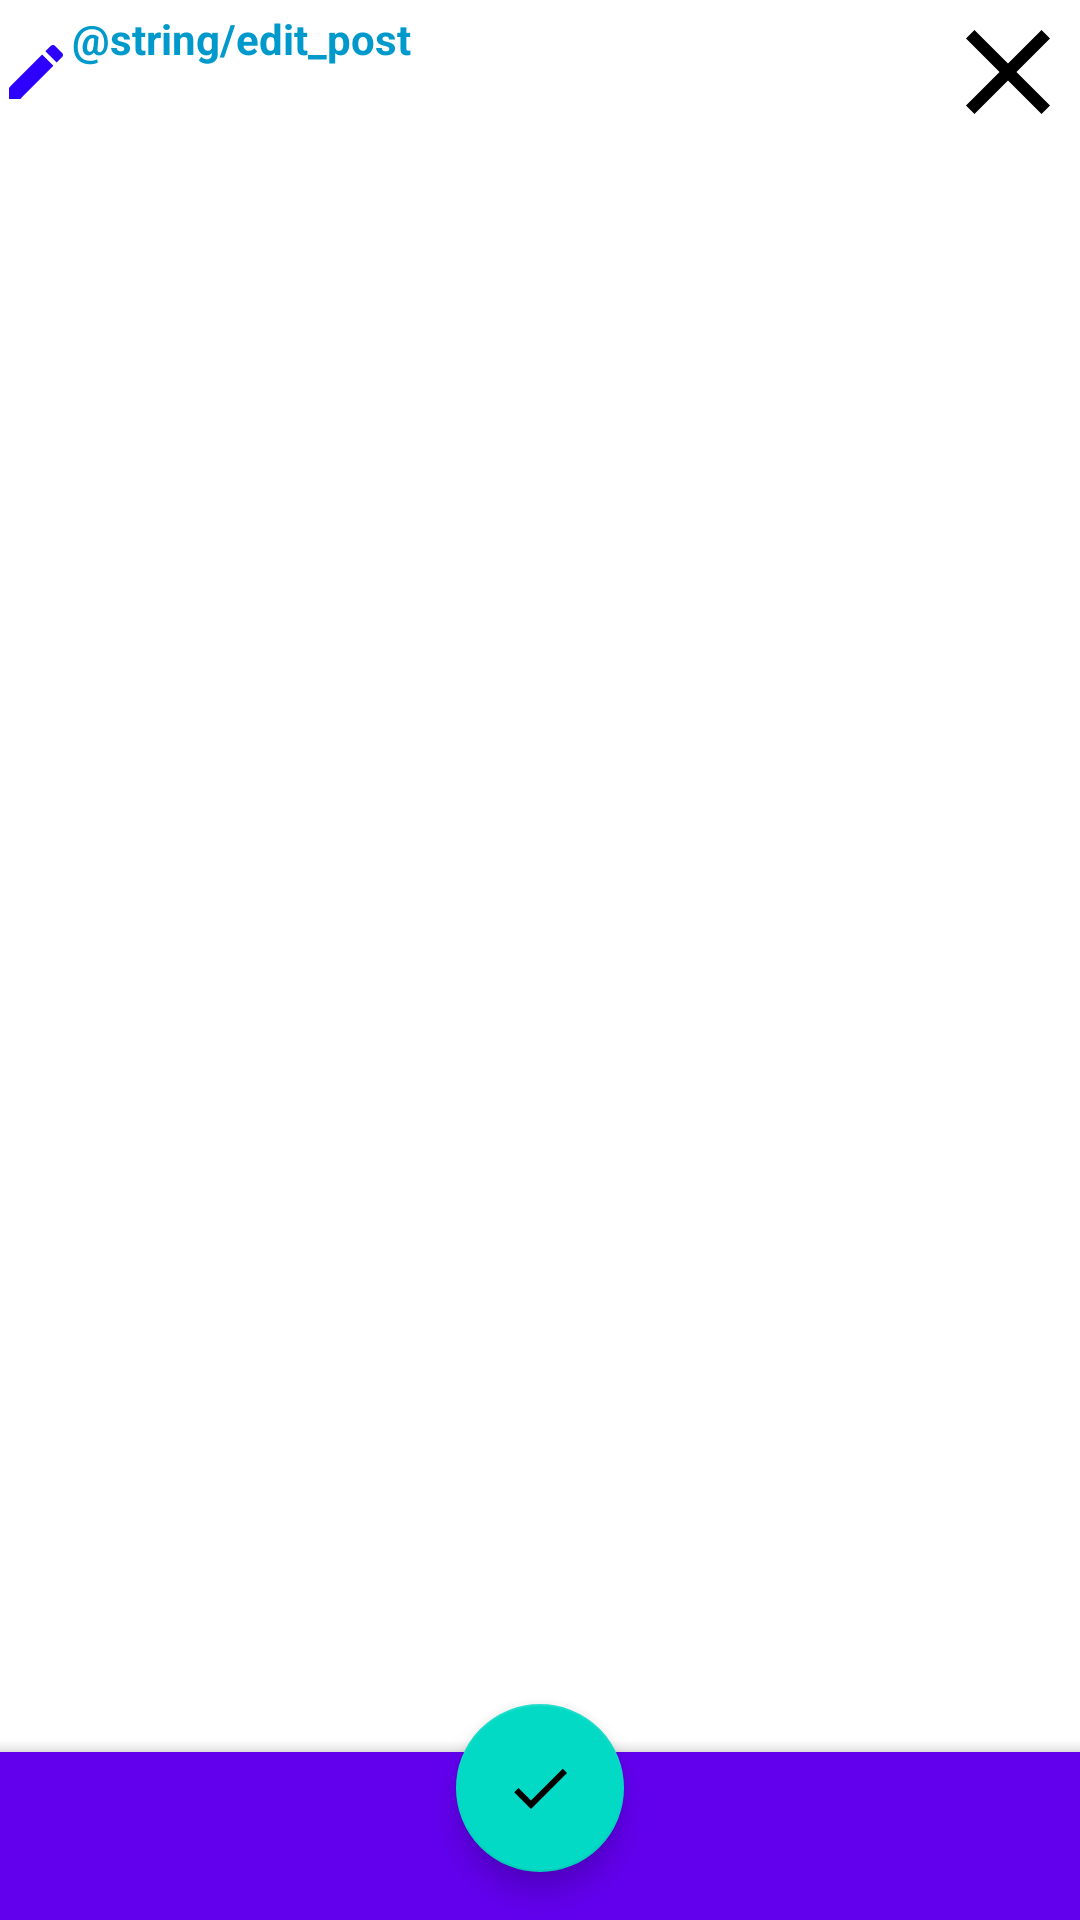

Screen size 1080x1920. Icon name, then its center in pixels as (x=x, y=y):
check: (x=540, y=1788)
close: (x=1008, y=72)
create: (x=36, y=72)
